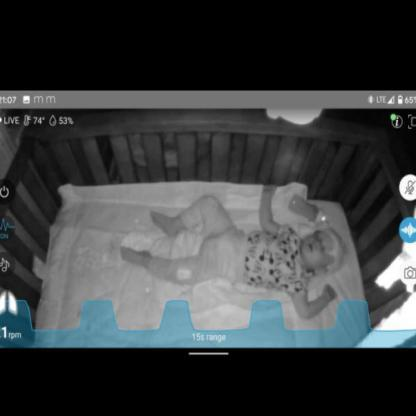baby: (120, 184, 346, 320)
